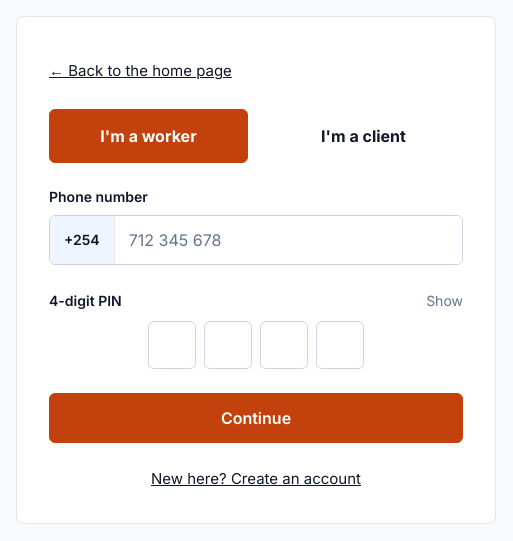
it: the submit button › says Signing in… while a sign-in is in flight
Type "700000101" into the field labelled "Phone number" at (288, 240), box left=115, top=216, right=462, bottom=264
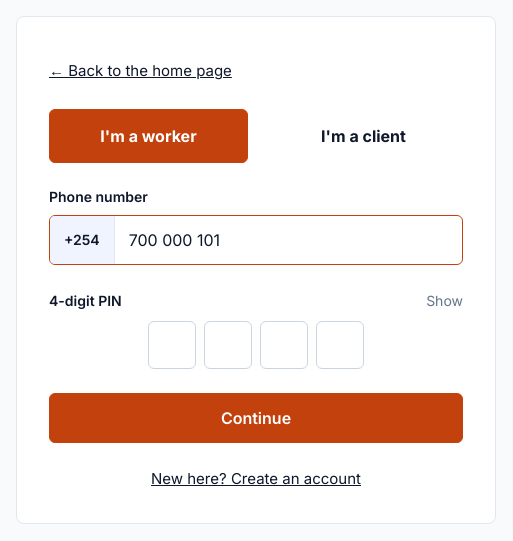
Type "4" into the password field named "4-digit PIN, digit" at (172, 345), box left=148, top=321, right=196, bottom=369
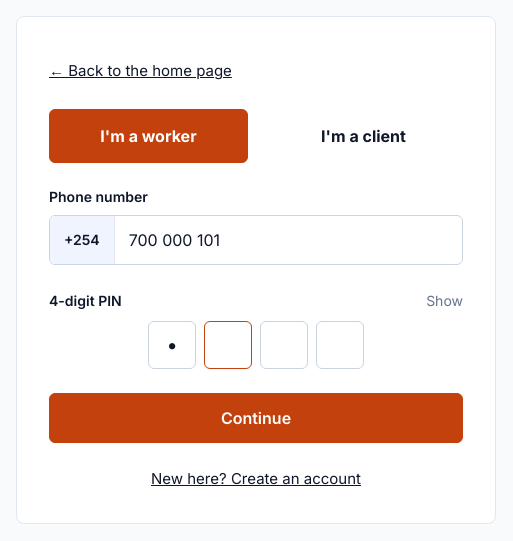
Type "8" into the password field named "4-digit PIN, digit" at (228, 345), box left=204, top=321, right=252, bottom=369
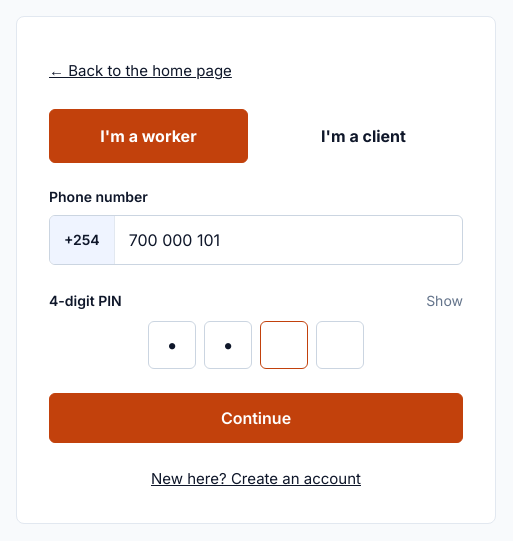
Type "2" into the password field named "4-digit PIN, digit" at (284, 345), box left=260, top=321, right=308, bottom=369
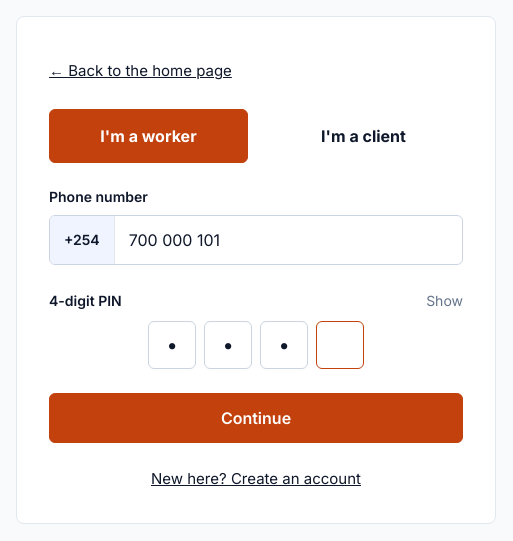
Type "1" into the password field named "4-digit PIN, digit" at (340, 345), box left=316, top=321, right=364, bottom=369
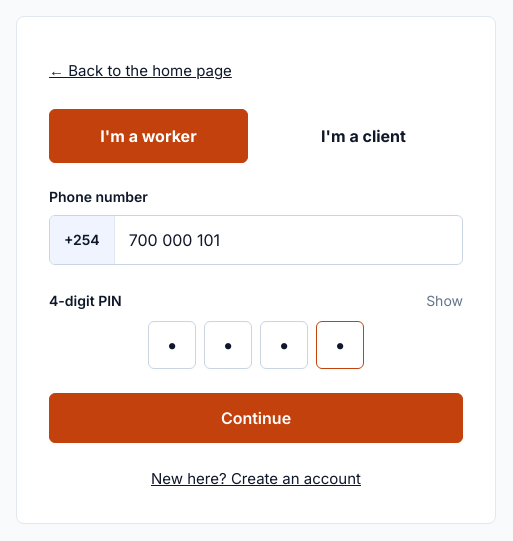
Click the button "Continue" at (256, 418), box left=49, top=393, right=463, bottom=443
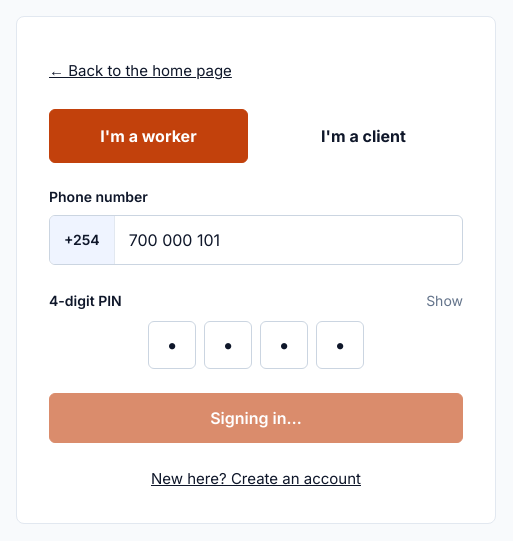
Expected: the button "Signing in…" is disabled, left=49, top=393, right=463, bottom=443
